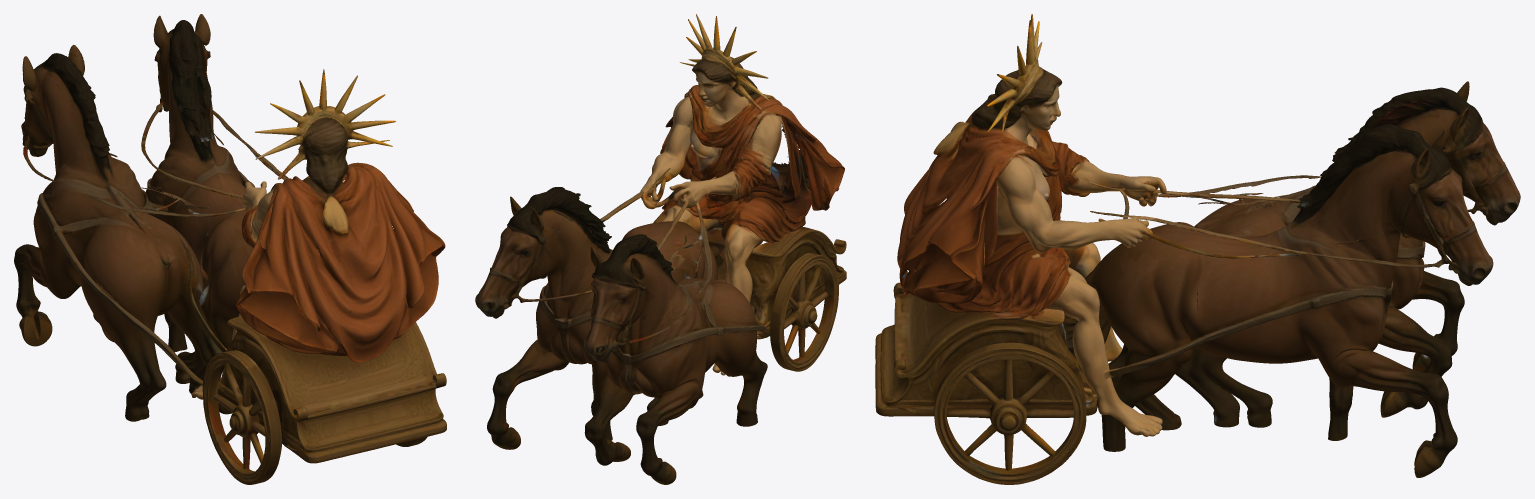
The model's file is hellius.glb.
3 renders of one model, left to right at view 1: azimuth 30°, elevation 25°; view 2: azimuth 150°, elevation 25°; view 3: azimuth 270°, elevation 25°, orthographic. The views are drawn at different scales.
Visible parts, largest first — view 1: tripo_node_6e709fdd-3b31-42b2-a2d9-eec64492d375; view 2: tripo_node_6e709fdd-3b31-42b2-a2d9-eec64492d375; view 3: tripo_node_6e709fdd-3b31-42b2-a2d9-eec64492d375.
Part boxes in pixels (x1,y1,x2,y2): tripo_node_6e709fdd-3b31-42b2-a2d9-eec64492d375: [14, 14, 446, 484]; tripo_node_6e709fdd-3b31-42b2-a2d9-eec64492d375: [475, 14, 846, 484]; tripo_node_6e709fdd-3b31-42b2-a2d9-eec64492d375: [875, 14, 1520, 484].
Bounding box in the file's own units: 0.4571 × 0.7306 × 1.
Materials: 1 (1 with a texture image).
